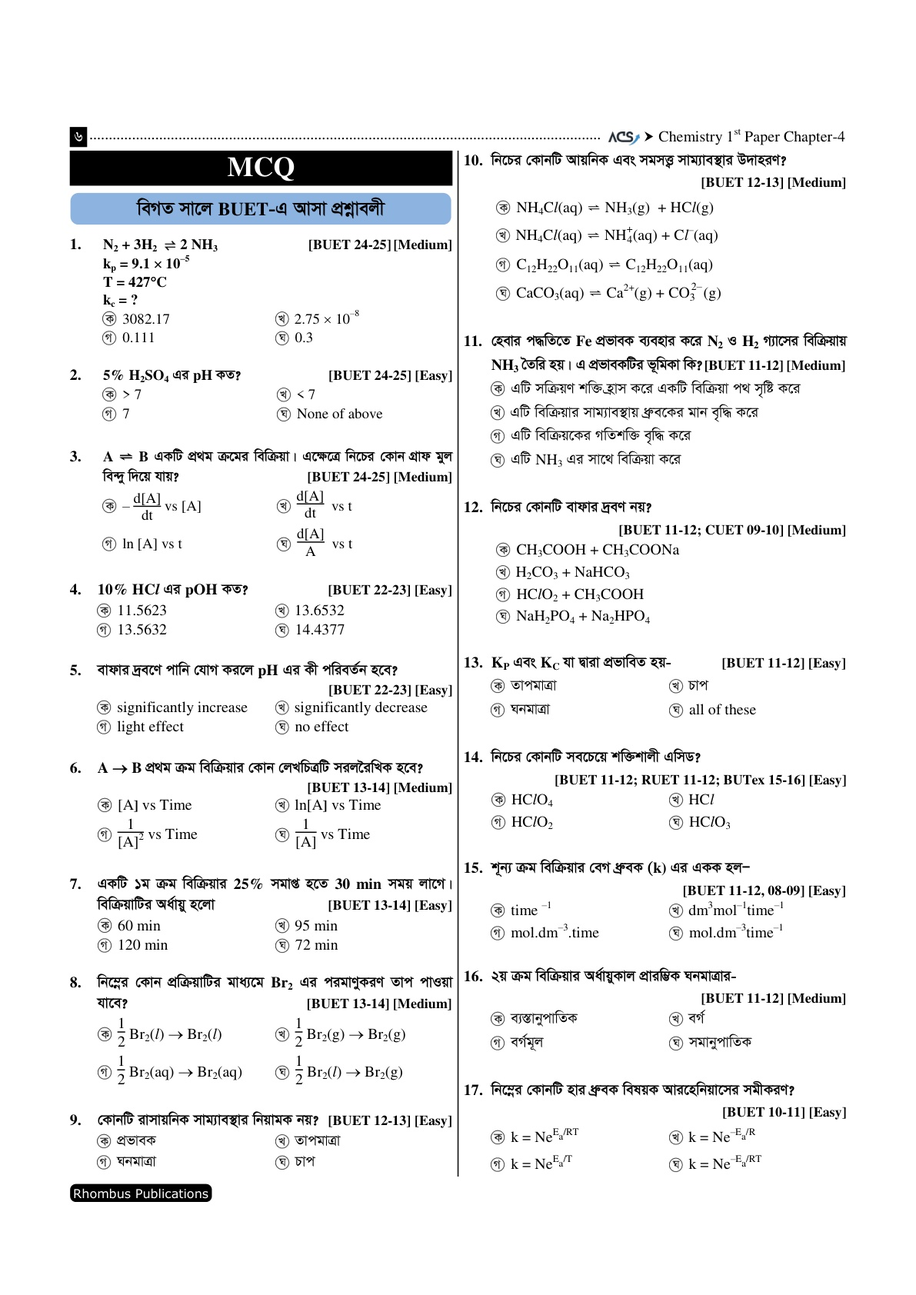question: (462, 328, 878, 485), (462, 150, 878, 306), (462, 497, 878, 634), (64, 970, 456, 1091), (64, 444, 455, 562), (65, 234, 455, 350), (462, 1068, 878, 1175), (462, 647, 878, 747), (462, 964, 878, 1063), (462, 745, 878, 841), (64, 755, 456, 855), (462, 854, 878, 942), (64, 871, 456, 958), (64, 580, 455, 666), (64, 657, 456, 740), (64, 1108, 456, 1178), (64, 366, 455, 426)
